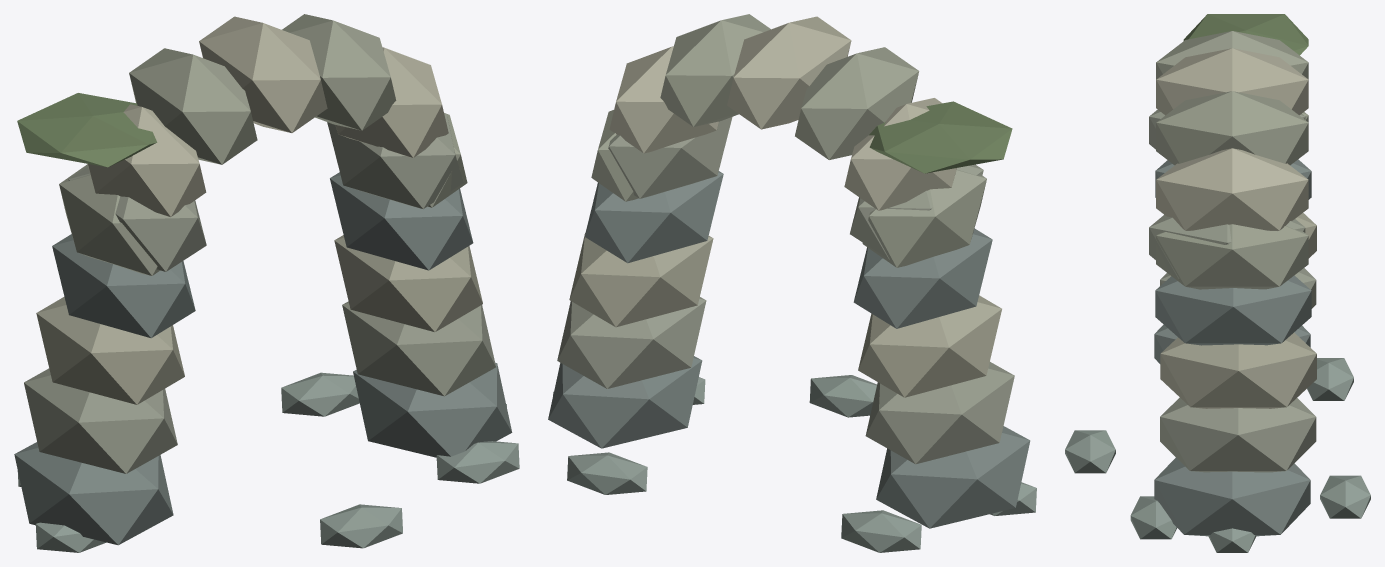
The model's file is nature-sea-arch.glb.
3 views of the same model, side by side, from view 1: azimuth 30°, elevation 25°; view 2: azimuth 150°, elevation 25°; view 3: azimuth 270°, elevation 25° (orthographic). The views are drawn at different scales.
Visible parts, largest first — view 1: SculptedModel; view 2: SculptedModel; view 3: SculptedModel.
Boxes of the visible parts, bbox=[...] form: SculptedModel: bbox=[14, 14, 519, 552]; SculptedModel: bbox=[548, 14, 1036, 552]; SculptedModel: bbox=[1065, 14, 1370, 552].
Size of the model in its own units: 2.1 by 1.96 by 1.3.
